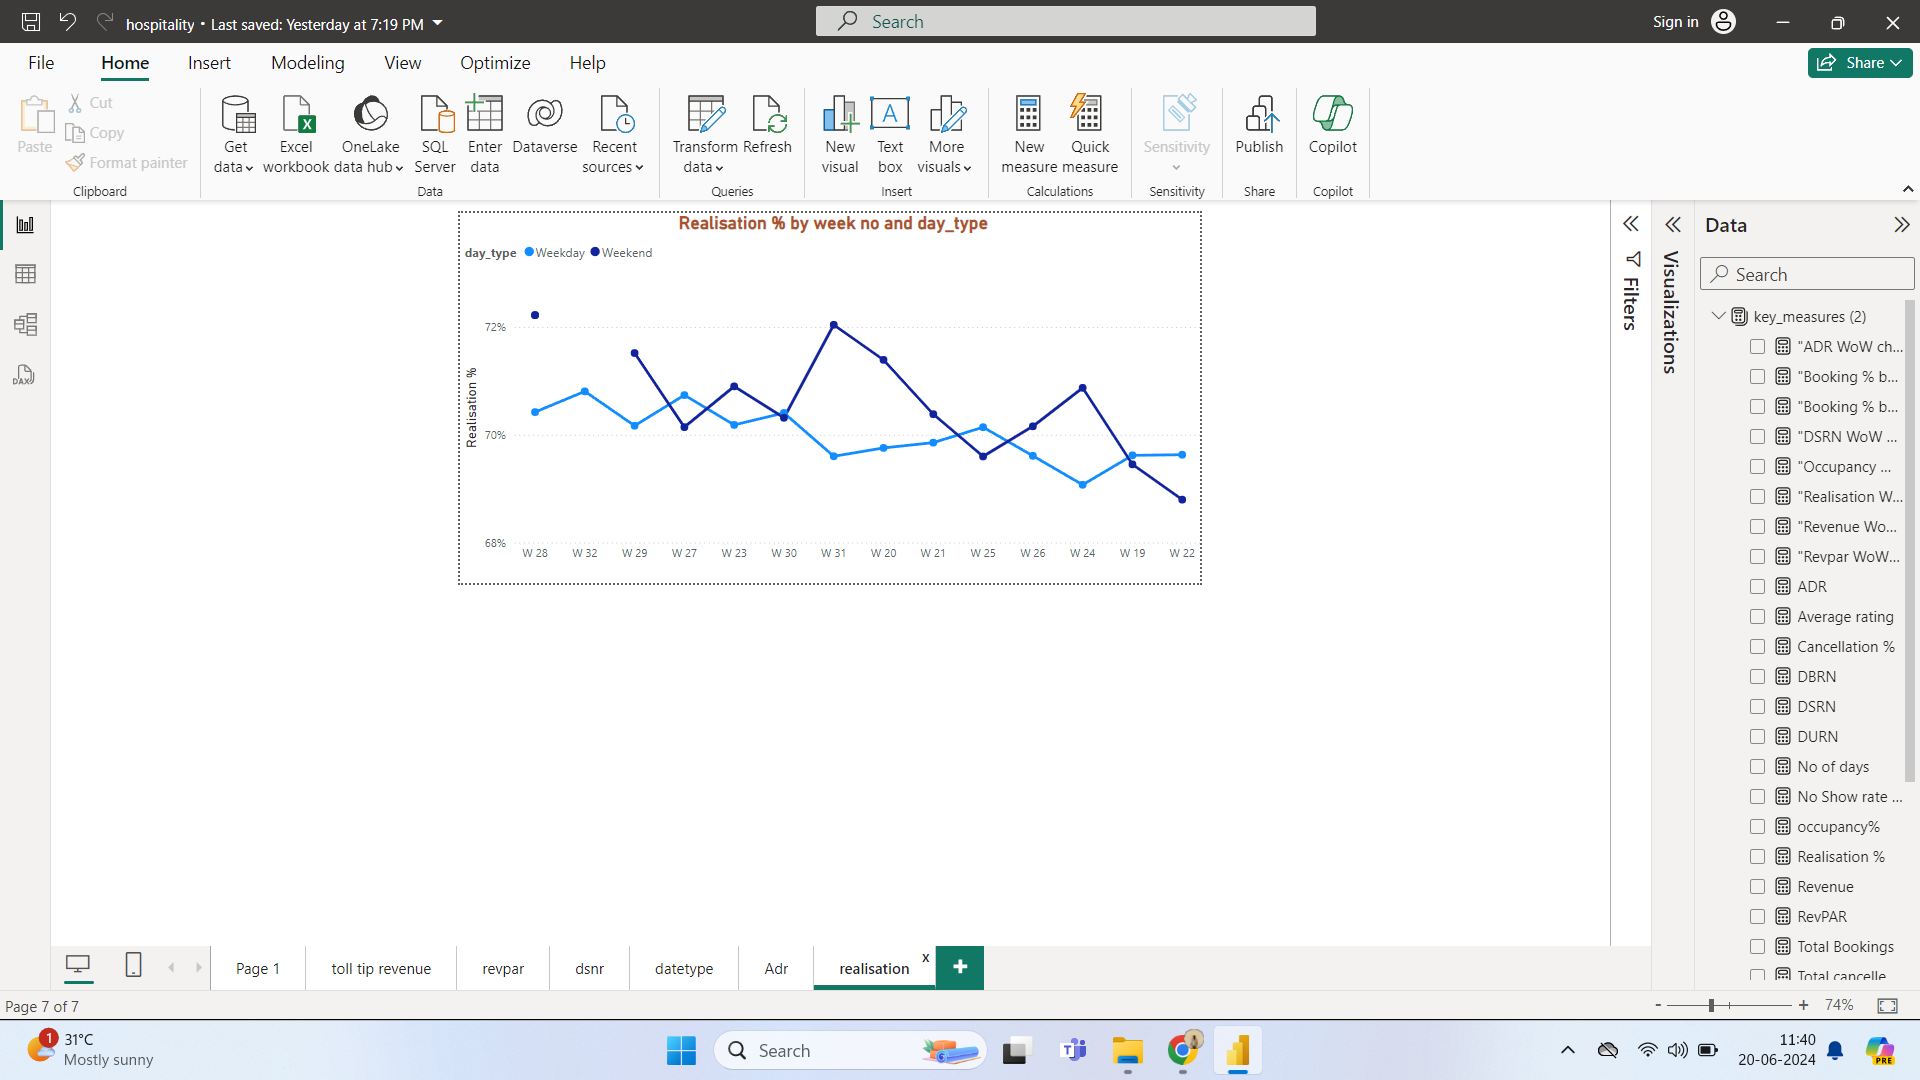

Layout of this report page (visuals, bound fields, positions):
{"tool":"powerbi","page":{"name":"realisation","canvas":[800,400],"ordinal":6},"visuals":[{"type":"lineChart","fields":{"Category":["dim_date.week no"],"Y":["key_measures (2).Realisation %"],"Series":["dim_date.day_type"]},"box":[0,0,807.5,400],"z":0}]}

Visuals, with their boxes on the page's 800x400 design canvas (x1, y1, x2, y2). These are canvas units, not pixel positions in the 1920x1080 screenshot, which may show the page scaled, cropped or inside an application window:
lineChart - dim_date.week no x key_measures (2).Realisation %: 0 0 808 400
